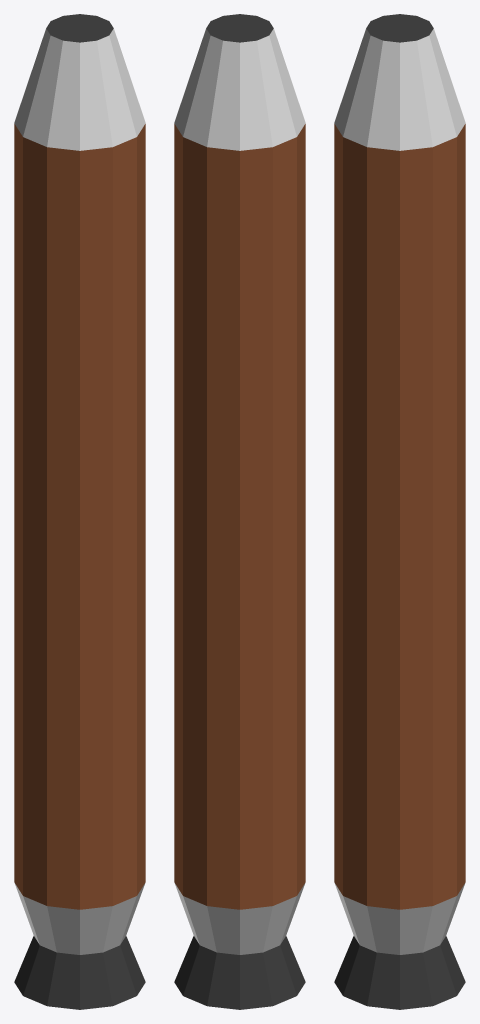
Rendered from Booster00.gltf.
The picture shows the model from 3 angles, left to right: view 1: azimuth 90°, elevation 25°; view 2: azimuth 210°, elevation 25°; view 3: azimuth 270°, elevation 25°; orthographic projection.
Parts seen in each view (by area): view 1: Booster00; view 2: Booster00; view 3: Booster00.
Part boxes in pixels (x1,y1,x2,y2): Booster00: (14, 14, 145, 1009); Booster00: (174, 14, 305, 1009); Booster00: (334, 14, 465, 1009).
Size of the model in its own units: 0.25 by 2 by 0.25.
